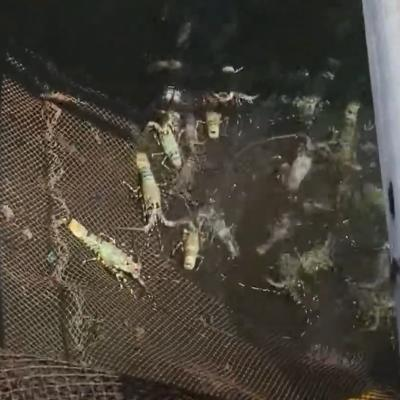lobster: (77, 240, 138, 275), (137, 160, 162, 224), (179, 232, 205, 270)
